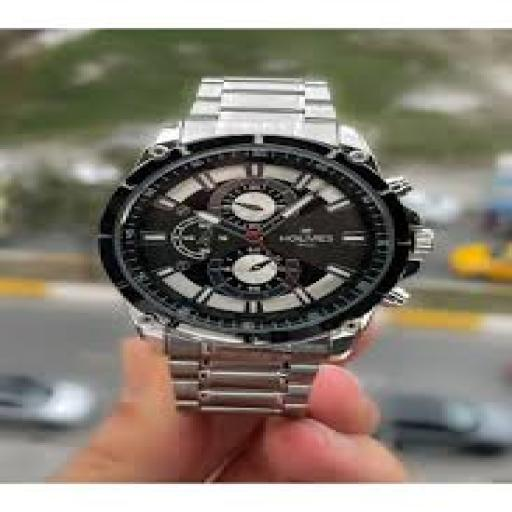KolSaati: (86, 42, 445, 423)
